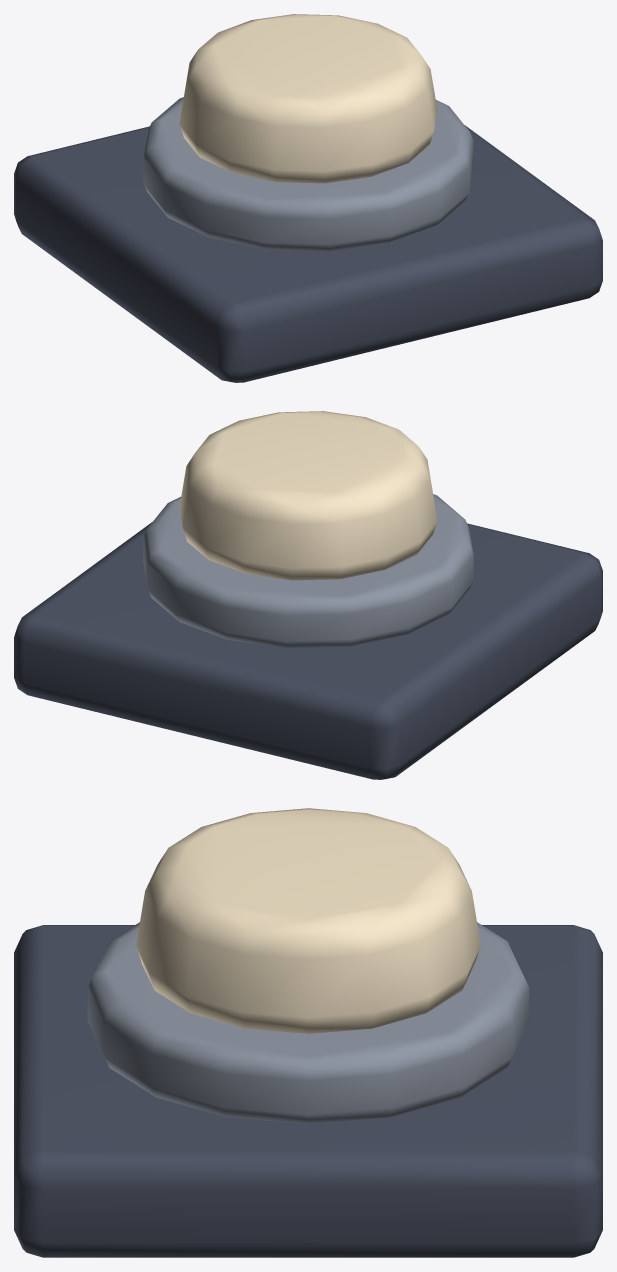
The model's file is Ctrl_Button.fbx.
3 renders of one model, top to bottom at view 1: azimuth 30°, elevation 25°; view 2: azimuth 150°, elevation 25°; view 3: azimuth 270°, elevation 25°, orthographic. The views are drawn at different scales.
Visible parts, largest first — view 1: Ctrl_Button.Base, Ctrl_Button.Move_Button, Ctrl_Button.Collar; view 2: Ctrl_Button.Base, Ctrl_Button.Move_Button, Ctrl_Button.Collar; view 3: Ctrl_Button.Base, Ctrl_Button.Move_Button, Ctrl_Button.Collar.
Part boxes in pixels (x1,y1,x2,y2): Ctrl_Button.Base: (14,125,602,382); Ctrl_Button.Move_Button: (179,14,437,183); Ctrl_Button.Collar: (143,97,473,251); Ctrl_Button.Base: (14,522,602,779); Ctrl_Button.Move_Button: (179,411,437,580); Ctrl_Button.Collar: (143,494,473,648); Ctrl_Button.Base: (14,925,602,1257); Ctrl_Button.Move_Button: (136,808,480,1033); Ctrl_Button.Collar: (87,922,529,1123).
Bounding box in the file's own units: 0.2 × 0.105 × 0.2.
Materials: 1 (1 with a texture image).
